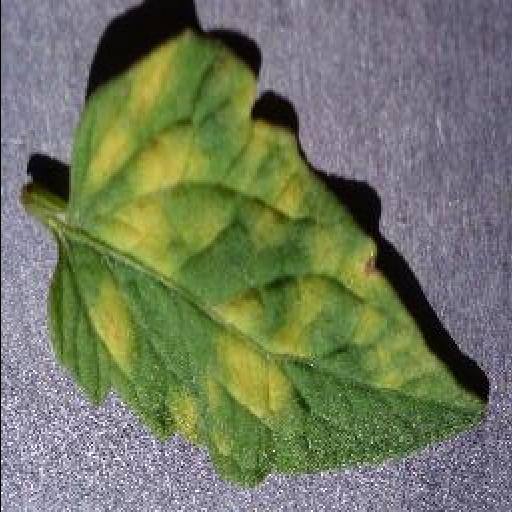disease_tomato: (44, 34, 490, 488)
